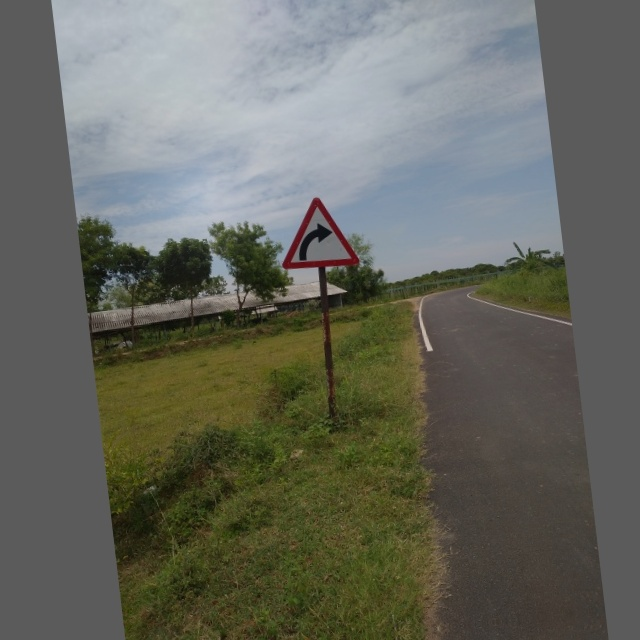Right_Hand_Curve: (275, 192, 358, 275)
